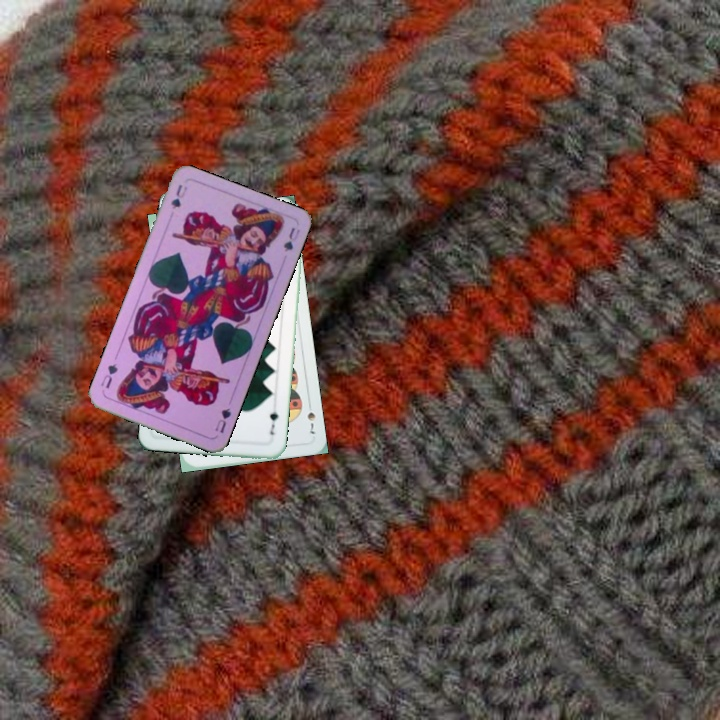G7: (266, 407, 280, 437)
GU: (167, 180, 190, 212), (211, 404, 233, 436)
S7: (303, 398, 319, 437)
